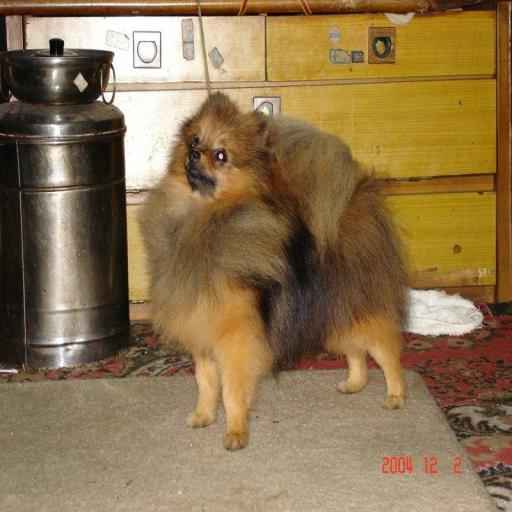dog_face: (170, 101, 281, 204)
